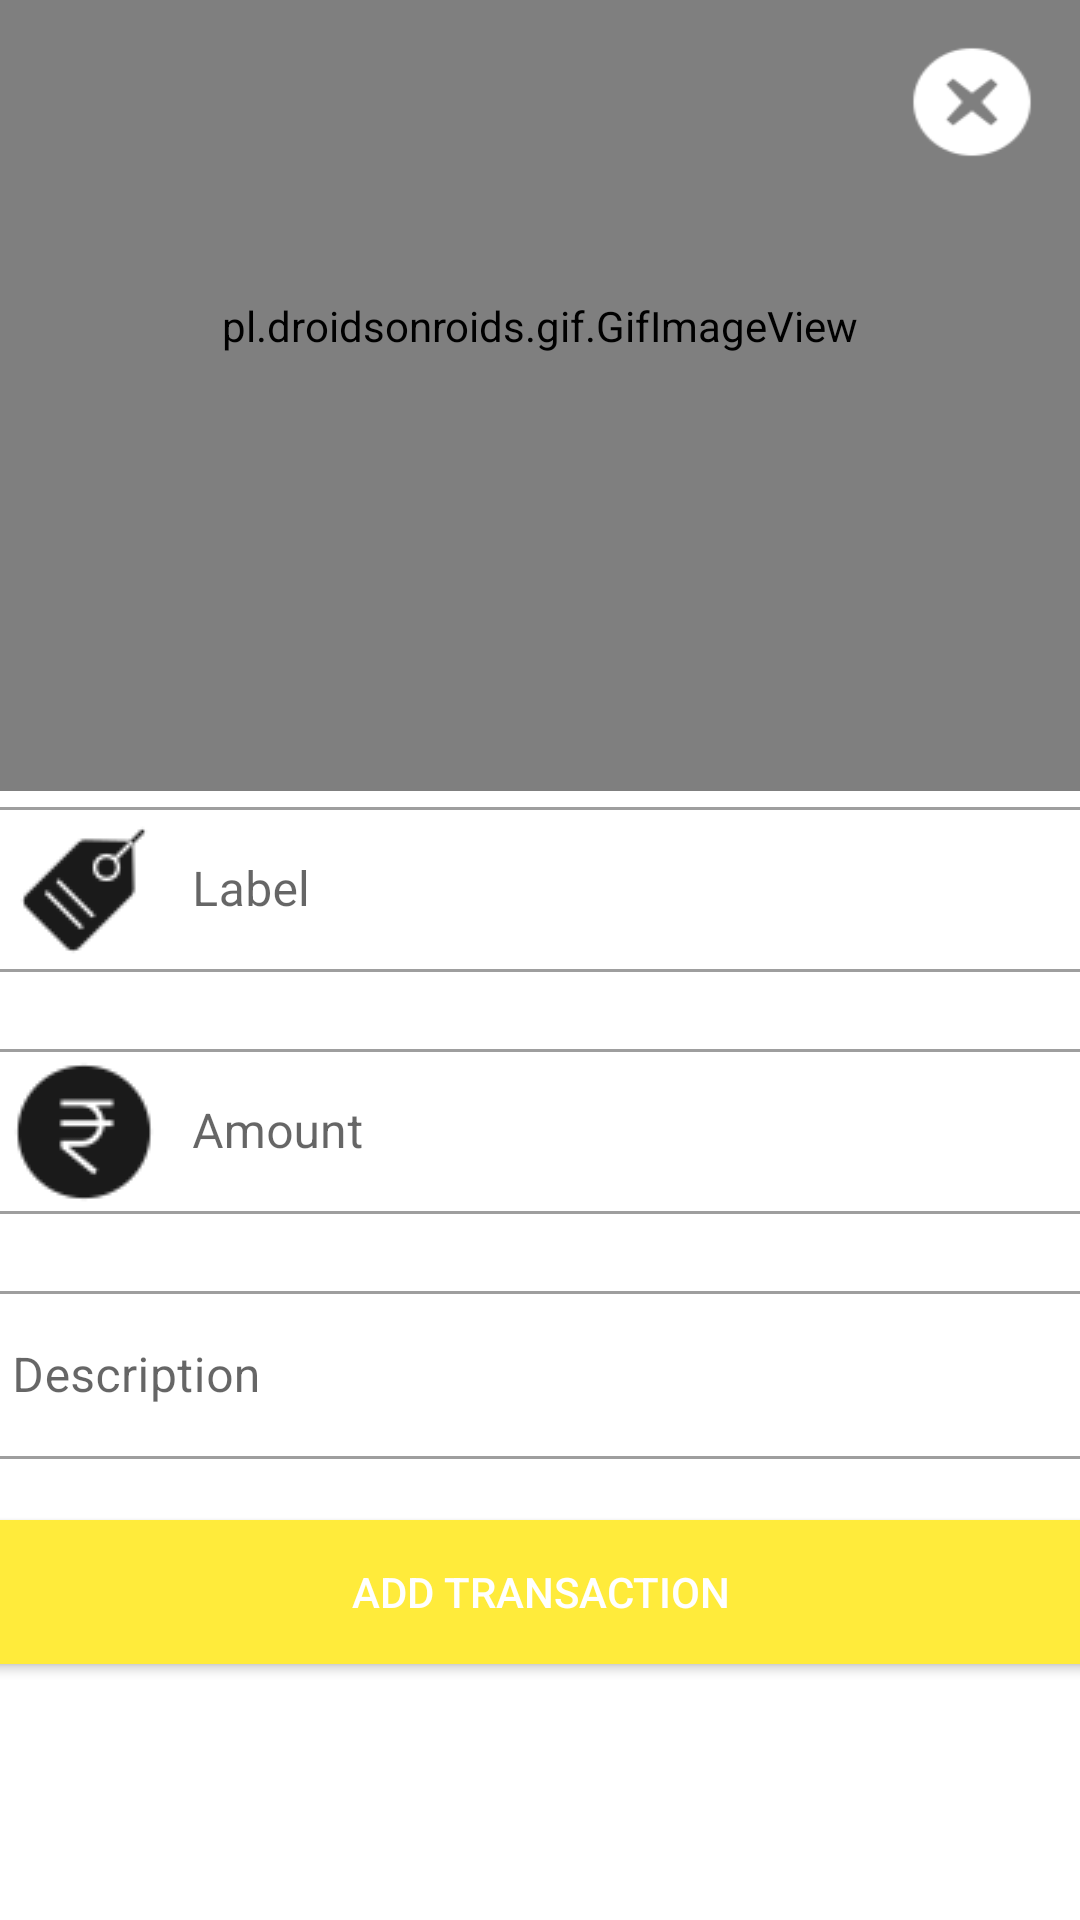

Named icons in this screenshot (1080px x 1920px) and their centers, point (x, y):
cancel: point (972, 102)
